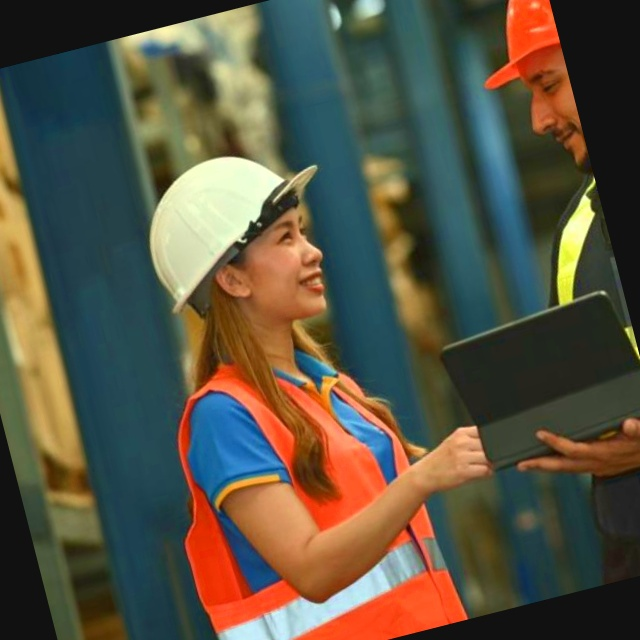Con_Casco: (133, 132, 356, 352)
Con_Chaleco: (149, 323, 468, 640)
